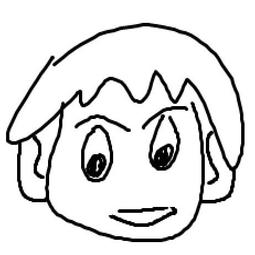eye: (69, 123, 119, 184), (145, 114, 184, 173)
eyebrow: (142, 104, 190, 128), (73, 112, 133, 131)
large_ear: (194, 110, 241, 207), (11, 122, 60, 208)
open_mouth: (103, 194, 179, 230)
